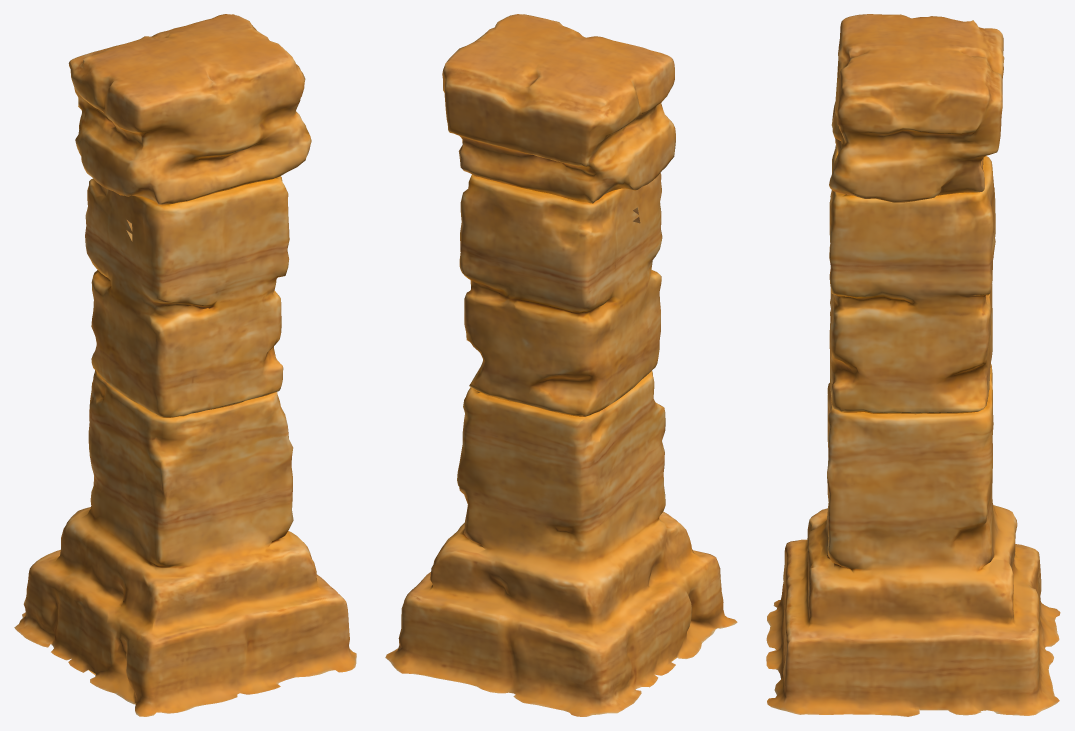
File: desert_1.glb
3 views of the same model, side by side, from view 1: azimuth 30°, elevation 25°; view 2: azimuth 150°, elevation 25°; view 3: azimuth 270°, elevation 25° (orthographic). The views are drawn at different scales.
Parts seen in each view (by area): view 1: geometry_0; view 2: geometry_0; view 3: geometry_0.
Part boxes in pixels (x1=…): geometry_0: x1=14, y1=14, x2=356, y2=716; geometry_0: x1=385, y1=14, x2=737, y2=716; geometry_0: x1=766, y1=14, x2=1060, y2=716.
Size of the model in its own units: 0.3979 by 0.9497 by 0.4141.
Materials: 1 (1 with a texture image).
